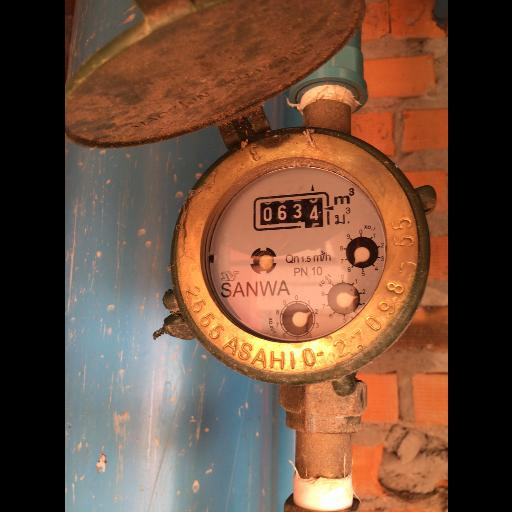0: (260, 202, 273, 226)
3: (288, 199, 305, 224)
4: (304, 198, 323, 229)
6: (272, 200, 289, 224)
border_water_meter_number: (251, 192, 331, 231)
